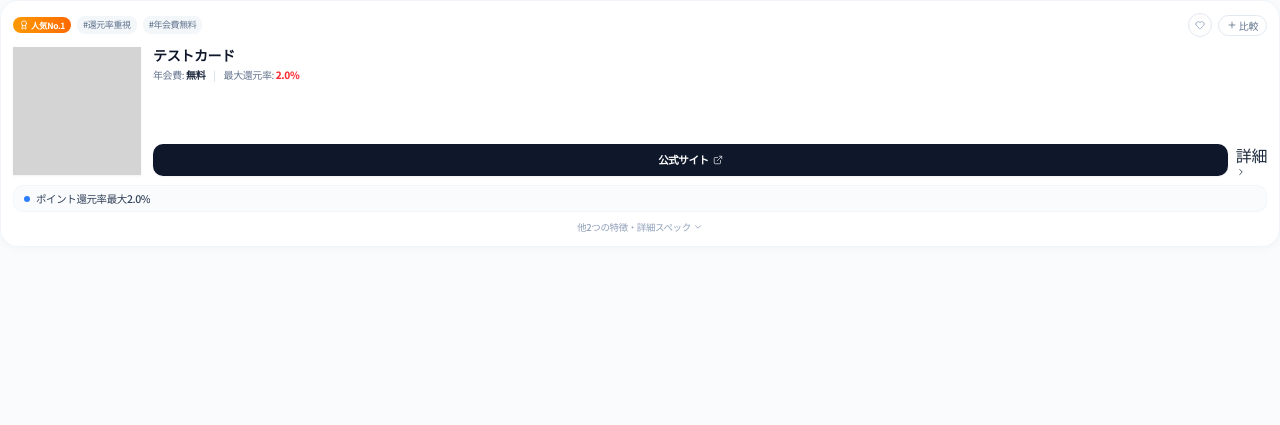
Scenario: CardItem Component › TC-11, 12, 13: アコーディオン開閉により詳細スペックや残りの特徴が表示・非表示されること
This screenshot has width=1280, height=425.
Click the button "他2つの特徴・詳細スペック" at [640, 226], box left=13, top=218, right=1267, bottom=234
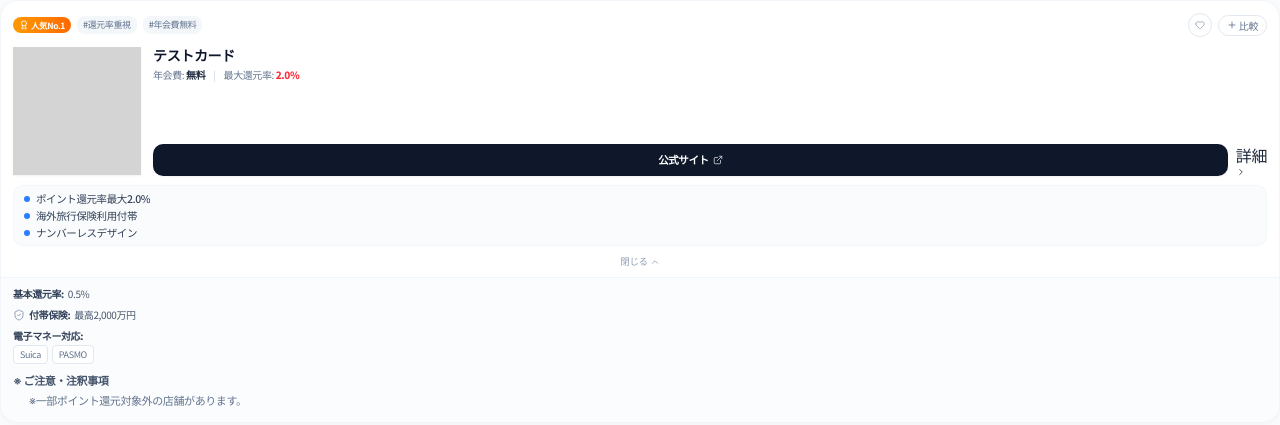
Now the text "海外旅行保険利用付帯" is shown, box left=36, top=209, right=137, bottom=222
Now the text "基本還元率:" is shown, box left=13, top=286, right=64, bottom=301
Now the text "最高2,000万円" is shown, box left=74, top=307, right=136, bottom=322
Click the button "閉じる" at [640, 261], box left=13, top=252, right=1267, bottom=269
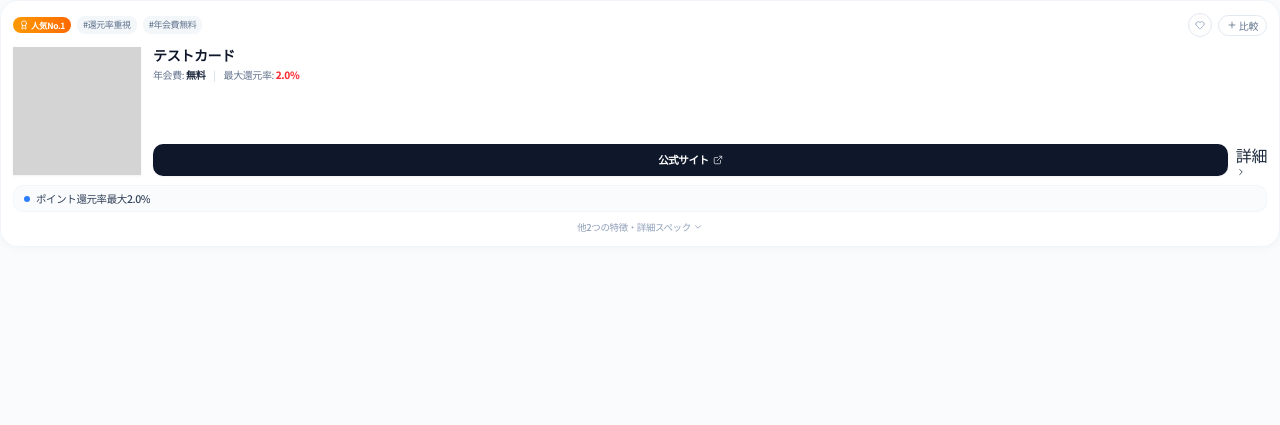
Now the text "海外旅行保険利用付帯" is gone
Now the text "基本還元率:" is gone
